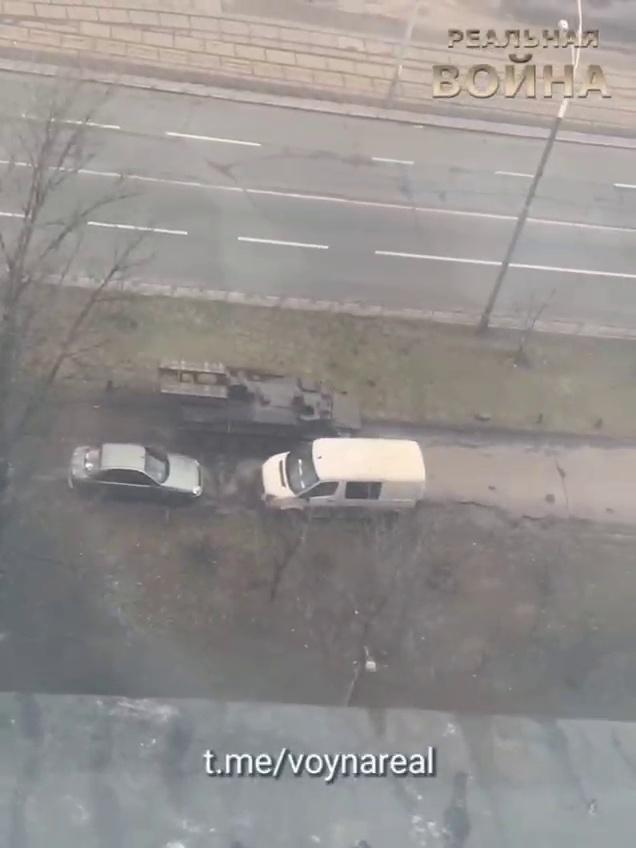car: (256, 435, 428, 512), (69, 442, 205, 507)
tank: (155, 356, 363, 452)
